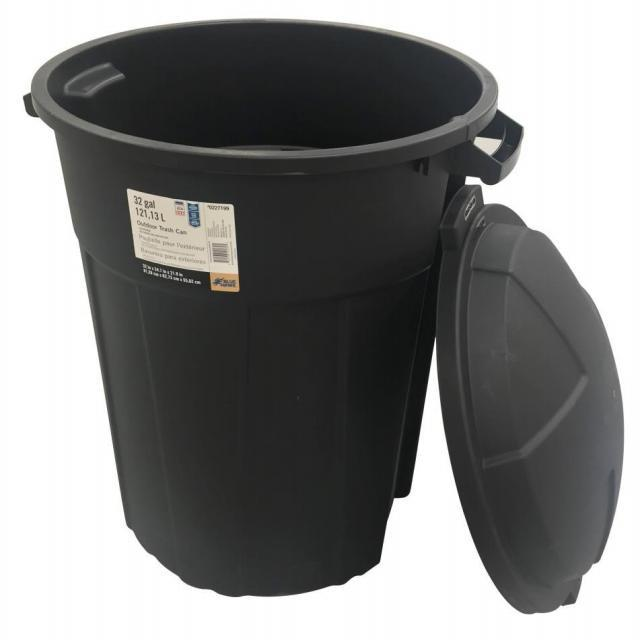Dumpster: (19, 16, 522, 600)
